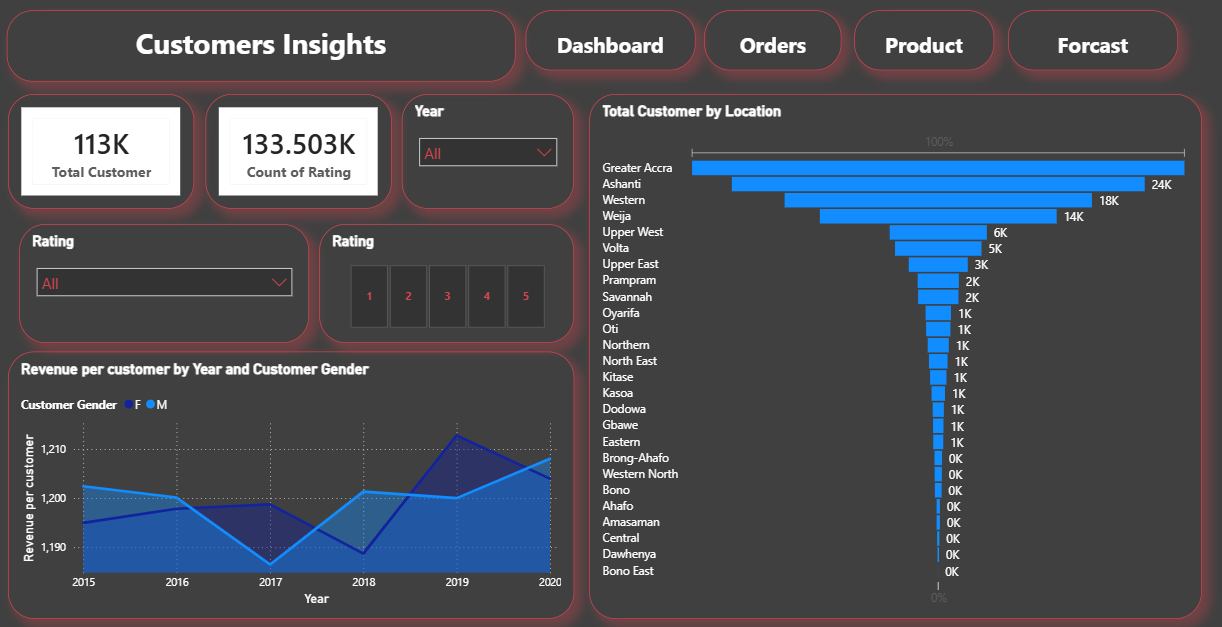

What the dashboard file says about the page in this screenshot:
{"tool":"powerbi","page":{"name":"Customer","canvas":[1400,720],"ordinal":4},"visuals":[{"type":"textbox","box":[10,12.9,581.4,81.4],"z":0},{"type":"slicer","title":"Rating","fields":{"Values":["Customer Data.Age Group"]},"box":[24.3,257.1,331.4,135.7],"z":1000},{"type":"cardVisual","title":"Total Revenue","fields":{"Data":["All Measure.Total Customer"]},"box":[11.4,108.6,212.9,131.4],"z":2000},{"type":"areaChart","fields":{"Series":["Customer Data.Customer Gender"],"Category":["Calendar Table.Date.Variation.Date Hierarchy.Year"],"Y":["All Measure.Revenue per customer"]},"box":[11.4,402.9,647.1,305.7],"z":3000},{"type":"cardVisual","title":"Total Revenue","fields":{"Data":["CountNonNull(Fact Data.Rating)"]},"box":[237.1,108.6,212.9,131.4],"z":4000},{"type":"funnel","fields":{"Y":["All Measure.Total Customer"],"Category":["Customer Data.Location"]},"box":[675.7,108.6,700,600],"z":5000},{"type":"slicer","title":"Year","fields":{"Values":["Calendar Table.Year"]},"box":[461.4,108.6,197.1,131.4],"z":6000},{"type":"slicer","title":"Rating","fields":{"Values":["Fact Data.Rating"]},"box":[367.1,257.1,291.4,135.7],"z":7000},{"type":"actionButton","title":"Dashboard","box":[602.9,12.9,194.3,68.6],"z":8000},{"type":"actionButton","title":"Orders","box":[807.1,12.9,157.1,68.6],"z":9000},{"type":"actionButton","title":"Product","box":[978.6,12.9,160,68.6],"z":10000},{"type":"actionButton","title":"Forcast","box":[1154.3,12.9,194.3,68.6],"z":11000}]}

Visuals, with their boxes in screenshot pixels (x1, y1, x2, y2), scaled from the page's 1400x720 canvas onto the 1222x627 screenshot:
textbox: Rect(9, 11, 516, 82)
"Rating" slicer: Rect(21, 224, 310, 342)
"Total Revenue" cardVisual: Rect(10, 95, 196, 209)
areaChart - Customer Data.Customer Gender x Calendar Table.Date.Variation.Date Hierarchy.Year: Rect(10, 351, 575, 617)
"Total Revenue" cardVisual: Rect(207, 95, 393, 209)
funnel - All Measure.Total Customer x Customer Data.Location: Rect(590, 95, 1201, 617)
"Year" slicer: Rect(403, 95, 575, 209)
"Rating" slicer: Rect(320, 224, 575, 342)
"Dashboard" actionButton: Rect(526, 11, 696, 71)
"Orders" actionButton: Rect(704, 11, 842, 71)
"Product" actionButton: Rect(854, 11, 994, 71)
"Forcast" actionButton: Rect(1008, 11, 1177, 71)
